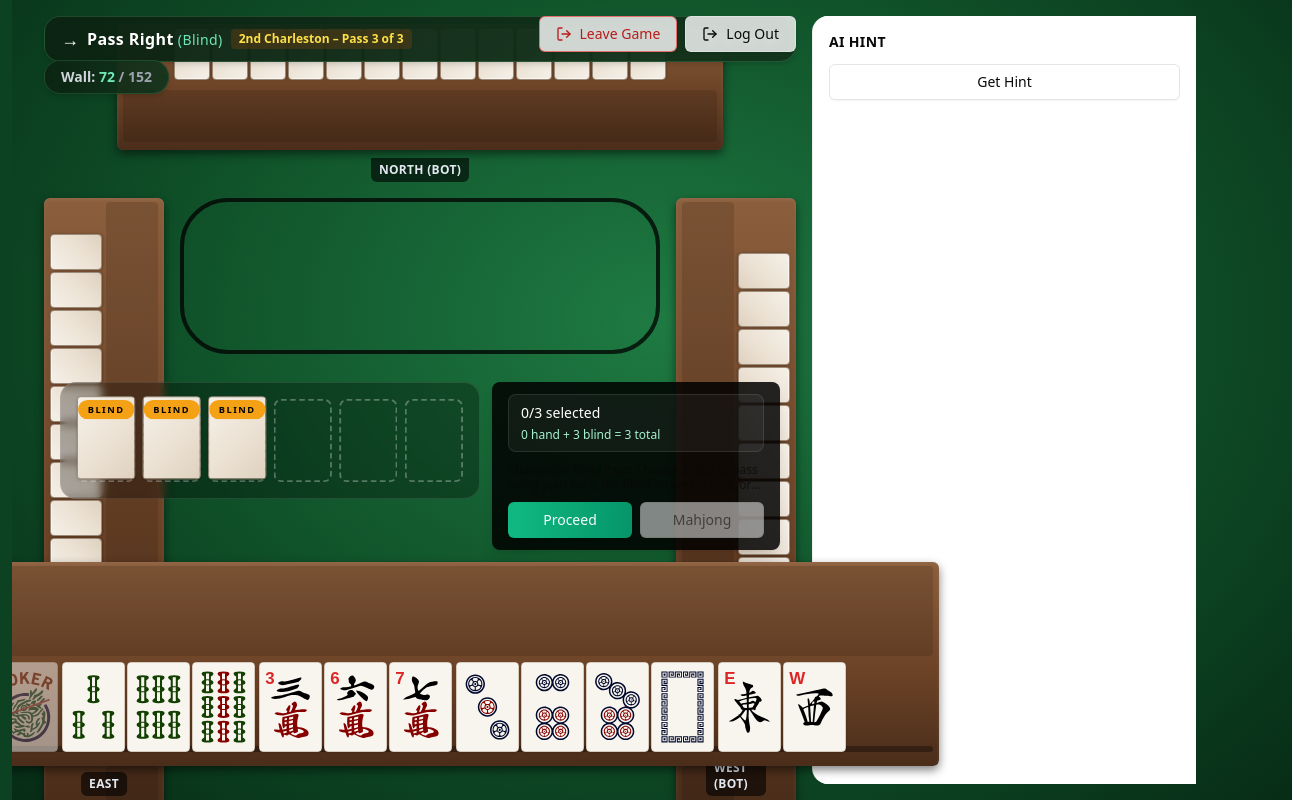
Test: VR-010: Charleston Second Right blind incoming behavior › keeps blind tiles out of the outgoing pool without inflating the rack
What coordinates should you click on to do the following:
click the button named "3 Crack"
I would click on:
 (290, 707)
Its box is [258,662,322,752].
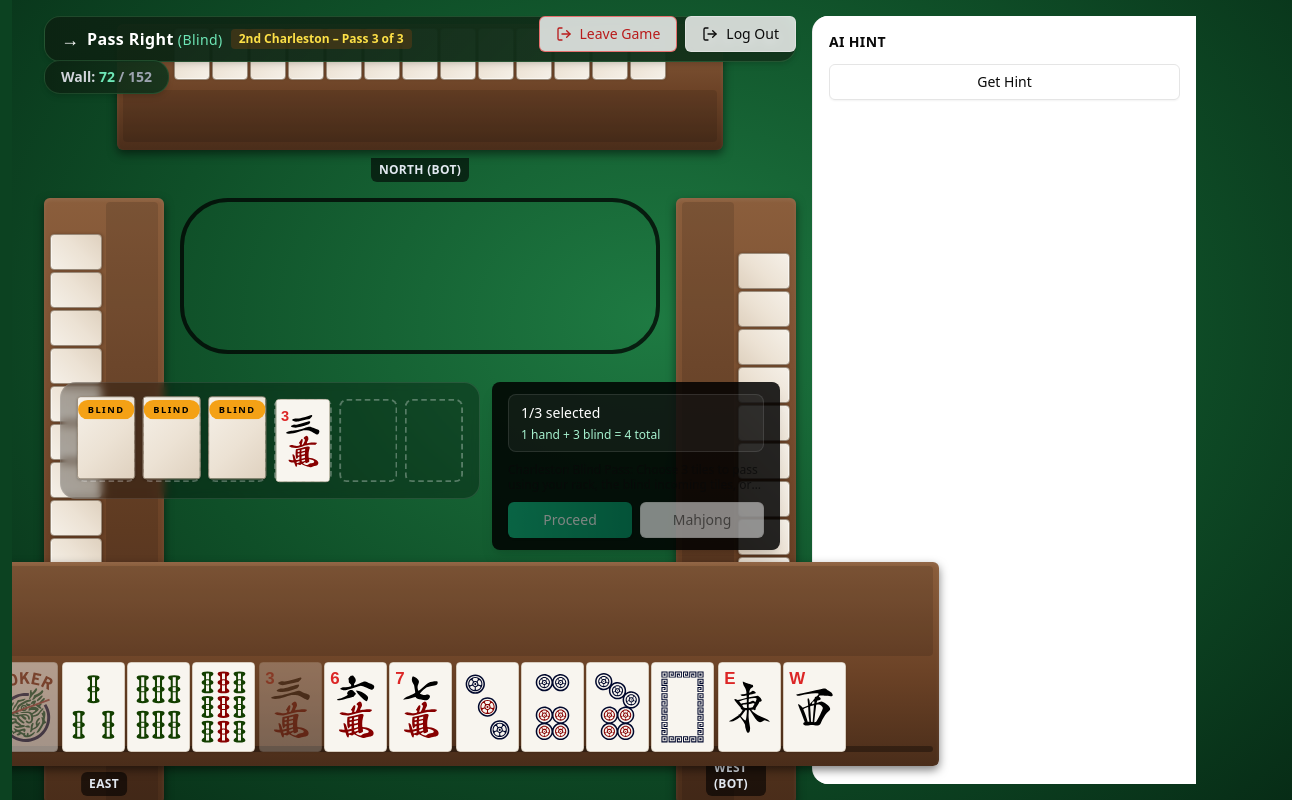
What coordinates should you click on to do the following:
click the button with test id "staging-incoming-tile-incoming-SecondRight-0-0"
I would click on:
 (106, 438)
Its box is [77,396,135,479].
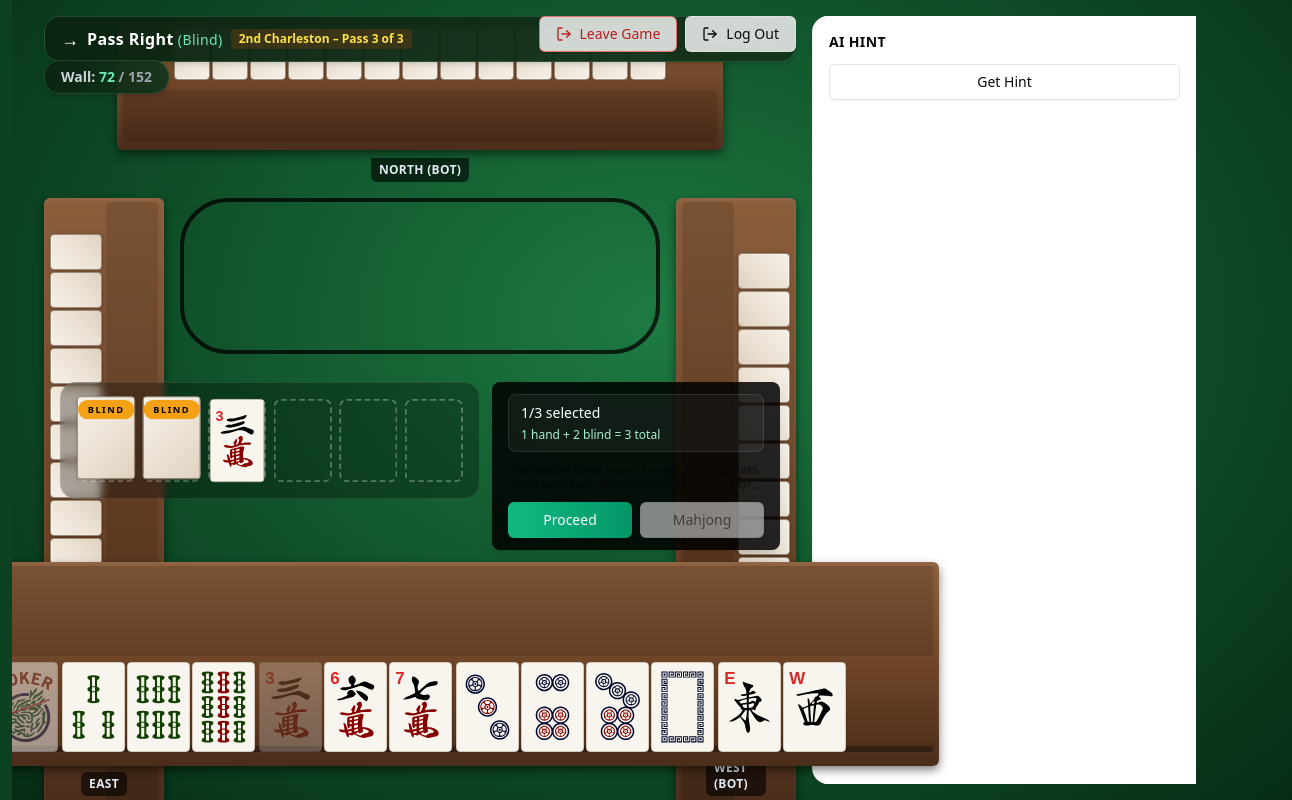
What coordinates should you click on to do the following:
click the button with test id "staging-incoming-tile-incoming-SecondRight-1-1"
I would click on:
 (106, 438)
Its box is [77,396,135,479].
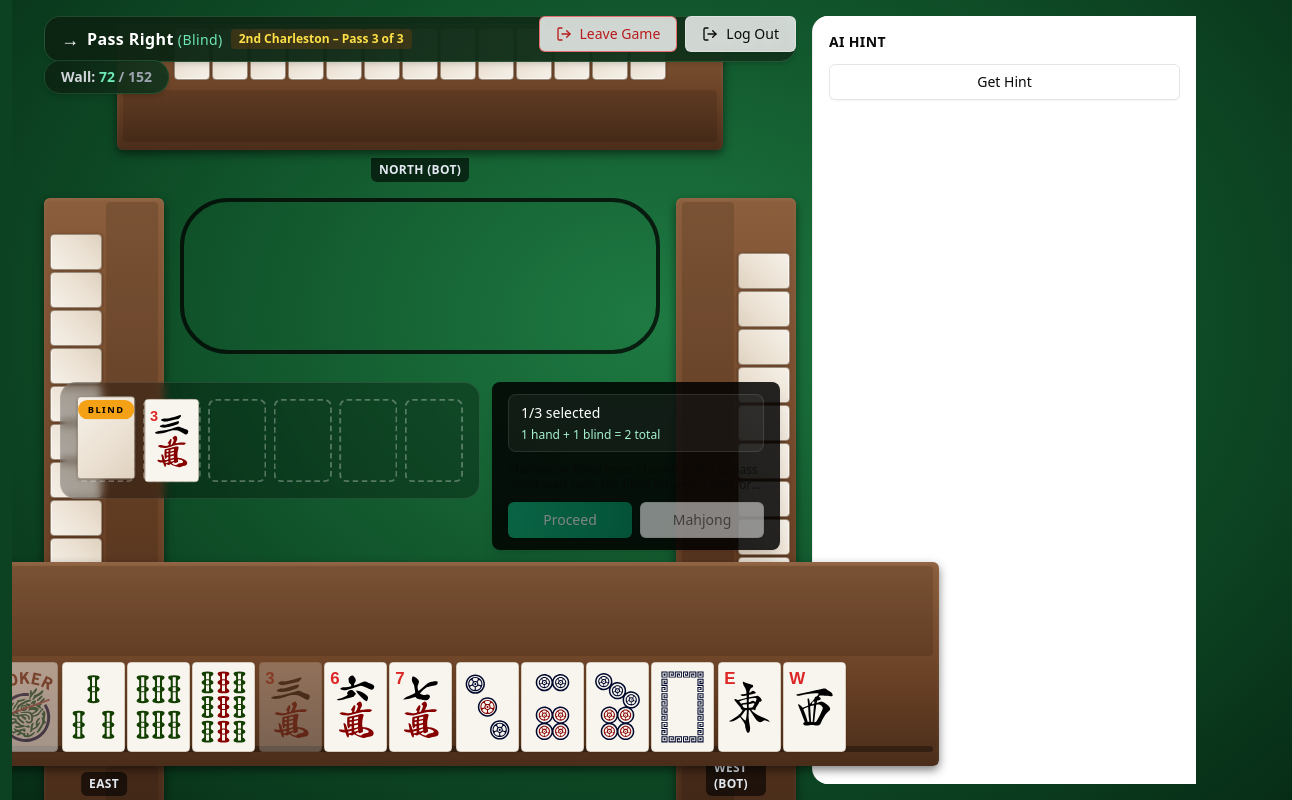
What coordinates should you click on to do the following:
click the button with test id "staging-incoming-tile-incoming-SecondRight-2-3"
I would click on:
 (106, 438)
Its box is [77,396,135,479].
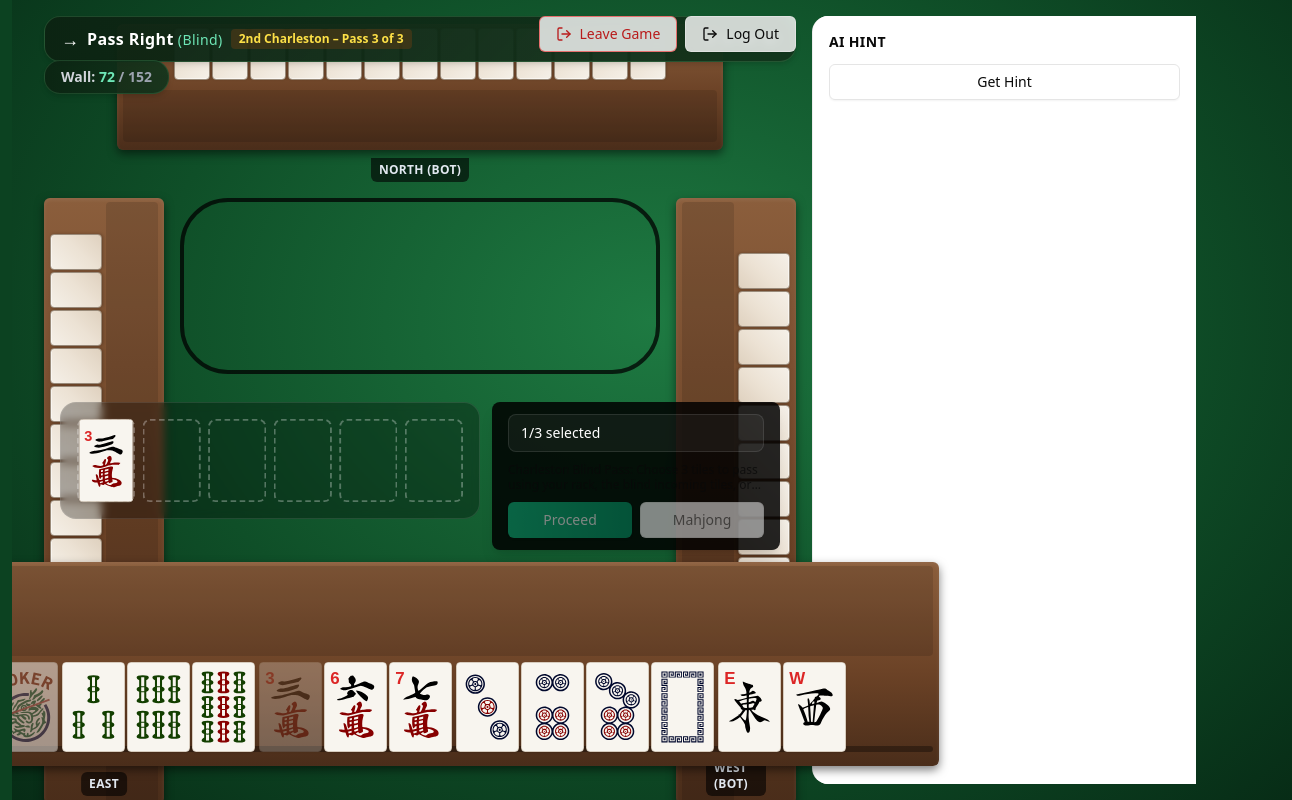
Now the button with test id "staging-incoming-tile-incoming-SecondRight-2-3" is gone
